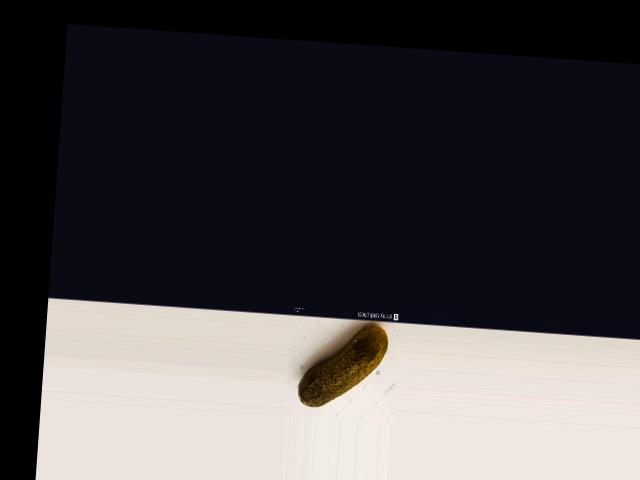cucumber: (296, 320, 389, 411)
